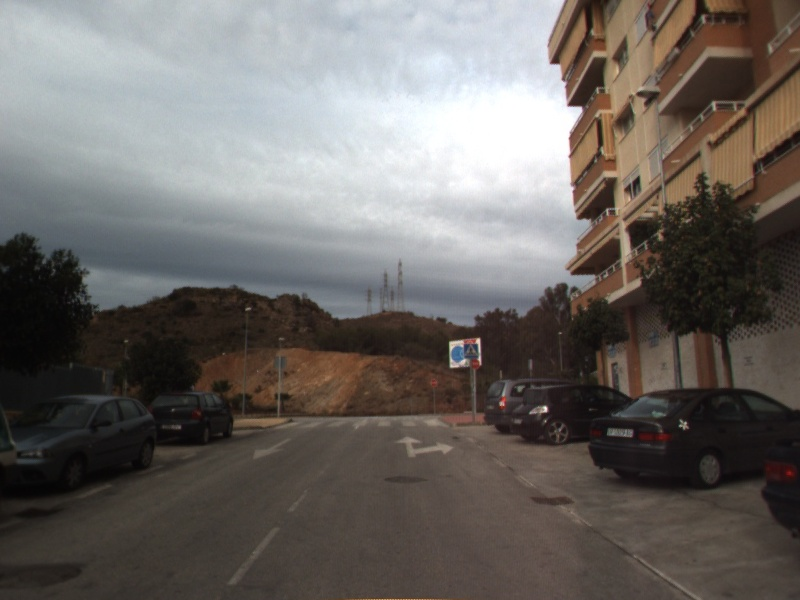STRAIGHT_RIGHT: (392, 434, 456, 459)
